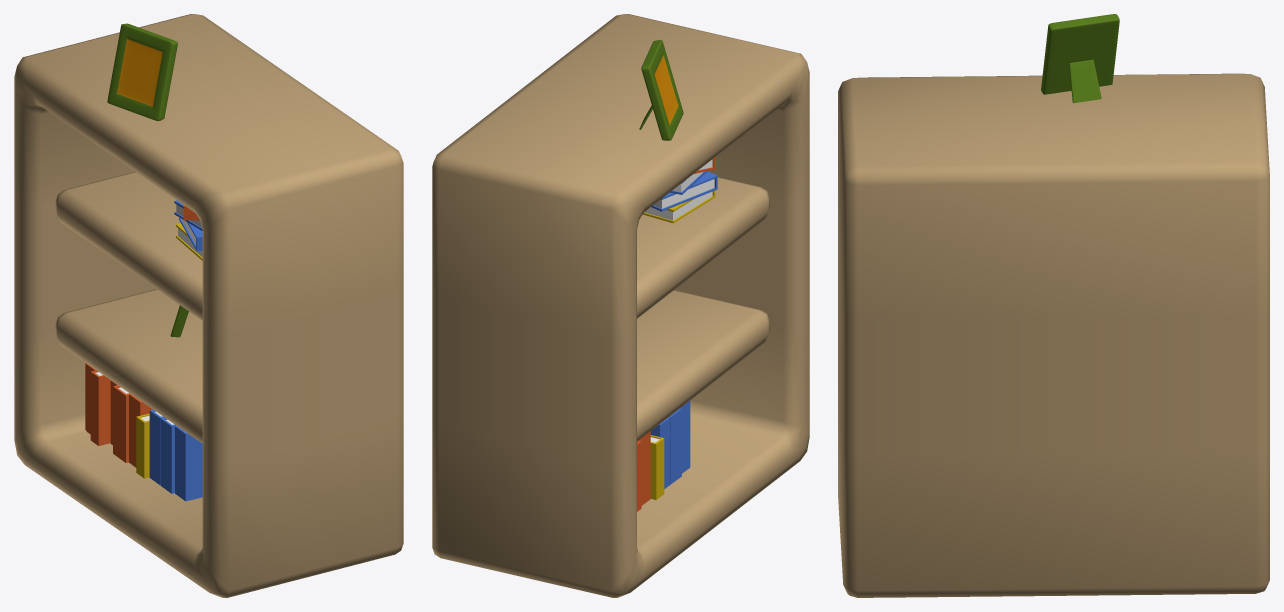
The model's file is armadietto_LOD0.fbx.
3 views of the same model, side by side, from view 1: azimuth 30°, elevation 25°; view 2: azimuth 150°, elevation 25°; view 3: azimuth 270°, elevation 25° (orthographic). The views are drawn at different scales.
Visible parts, largest first — view 1: cabinet_01_001; view 2: cabinet_01_001; view 3: cabinet_01_001.
Boxes of the visible parts, x1,y1,x2,y2 form: cabinet_01_001: (14,14,403,597); cabinet_01_001: (432,14,809,597); cabinet_01_001: (838,14,1269,597).
Size of the model in its own units: 186 by 422 by 325.
